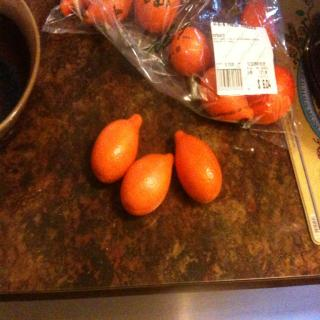tomato: (167, 24, 212, 77)
